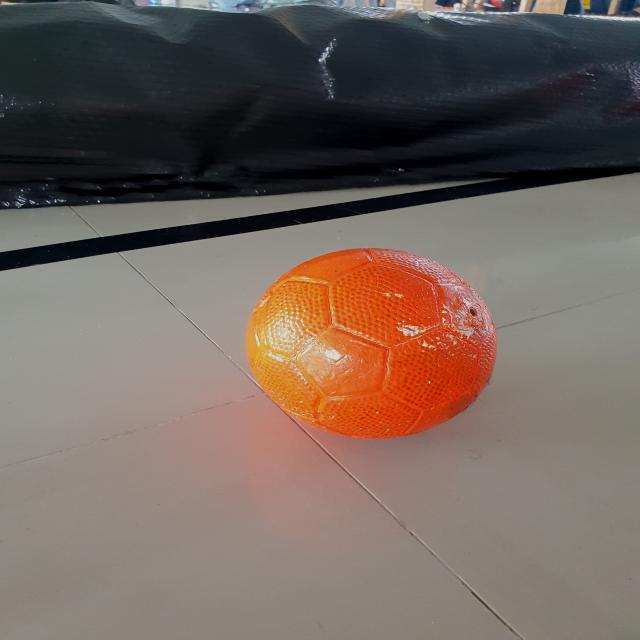bola: (241, 240, 498, 440)
